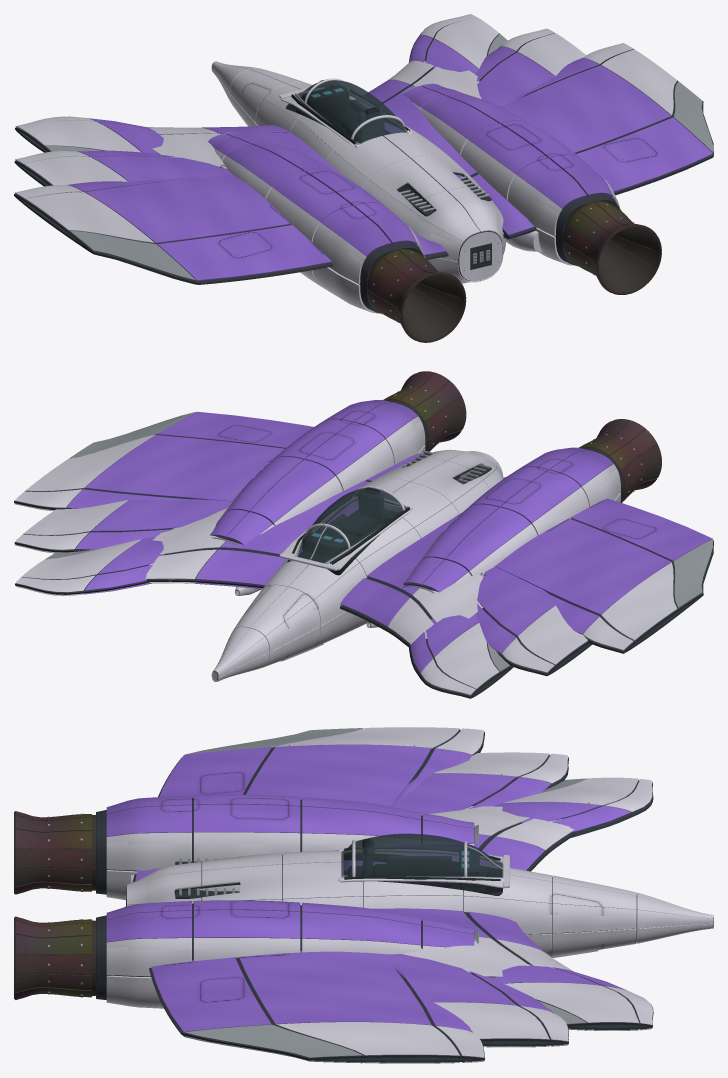
3 renders of one model, top to bottom at view 1: azimuth 30°, elevation 25°; view 2: azimuth 150°, elevation 25°; view 3: azimuth 270°, elevation 25°, orthographic. The views are drawn at different scales.
Parts seen in each view (by area): view 1: Fitted lifting skin, Aft pressure bulkhead, Fuselage fitted skin 00.0, Aft avionics recess, Swept inlet guide vane, Formed heat alloy nozzle petal, Sealed avionics connector, Thin laminated canopy glazing, Connector protected contact, Pressure hull substrate; view 2: Fitted lifting skin, Aft pressure bulkhead, Fuselage fitted skin 00.0, Aft avionics recess, Formed heat alloy nozzle petal, Sealed avionics connector, Thin laminated canopy glazing, Connector protected contact, Swept inlet guide vane; view 3: Fitted lifting skin, Aft pressure bulkhead, Fuselage fitted skin 00.0, Formed heat alloy nozzle petal, Aft avionics recess, Sealed avionics connector, Thin laminated canopy glazing, Connector protected contact, Swept inlet guide vane, Pressure hull substrate.
Part boxes in pixels (box(x1,y1,x2,y2)): Fitted lifting skin: box(68, 35, 712, 280); Aft pressure bulkhead: box(14, 14, 677, 313); Fuselage fitted skin 00.0: box(256, 82, 505, 261); Aft avionics recess: box(14, 22, 713, 313); Swept inlet guide vane: box(367, 201, 661, 342); Formed heat alloy nozzle petal: box(368, 201, 661, 342); Sealed avionics connector: box(45, 34, 713, 322); Thin laminated canopy glazing: box(298, 80, 406, 143); Connector protected contact: box(291, 94, 488, 261); Pressure hull substrate: box(285, 97, 501, 280); Fitted lifting skin: box(66, 400, 712, 672); Aft pressure bulkhead: box(14, 416, 677, 695); Fuselage fitted skin 00.0: box(262, 449, 503, 625); Aft avionics recess: box(14, 400, 713, 698); Formed heat alloy nozzle petal: box(383, 371, 661, 502); Sealed avionics connector: box(45, 386, 713, 671); Thin laminated canopy glazing: box(297, 488, 406, 563); Connector protected contact: box(291, 487, 409, 575); Swept inlet guide vane: box(388, 372, 661, 497); Fitted lifting skin: box(106, 744, 630, 1036); Aft pressure bulkhead: box(106, 727, 713, 1063); Fuselage fitted skin 00.0: box(127, 850, 551, 934); Formed heat alloy nozzle petal: box(15, 811, 91, 999); Aft avionics recess: box(96, 729, 653, 1062); Sealed avionics connector: box(48, 728, 598, 1063); Thin laminated canopy glazing: box(341, 833, 503, 877); Connector protected contact: box(344, 839, 500, 893); Swept inlet guide vane: box(14, 811, 95, 999); Pressure hull substrate: box(126, 853, 713, 955).
Size of the model in its own units: 3.8 by 0.7099 by 3.42.
Materials: 9 (3 with a texture image).
